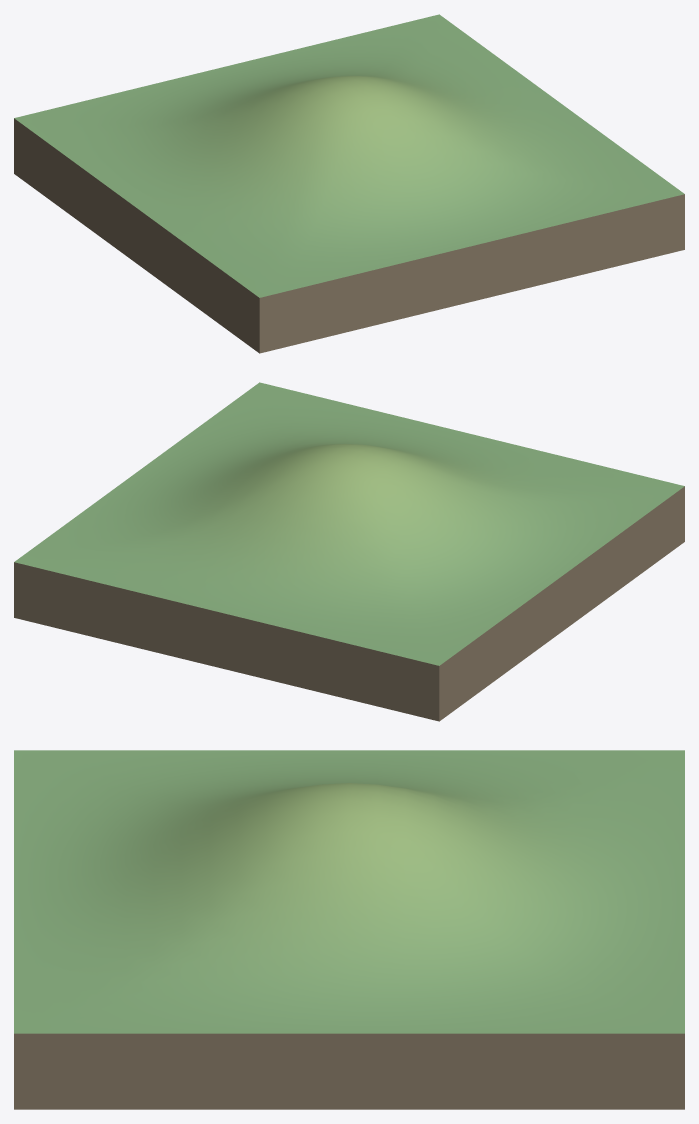
Rendered from hill.glb.
3 views of the same model, one above another, from view 1: azimuth 30°, elevation 25°; view 2: azimuth 150°, elevation 25°; view 3: azimuth 270°, elevation 25° (orthographic). The views are drawn at different scales.
Visible parts, largest first — view 1: hill; view 2: hill; view 3: hill.
Boxes of the visible parts, <box> form: hill: <box>14,14,684,353</box>; hill: <box>14,382,684,721</box>; hill: <box>14,750,684,1109</box>.
Size of the model in its own units: 8 by 2.2 by 8.
